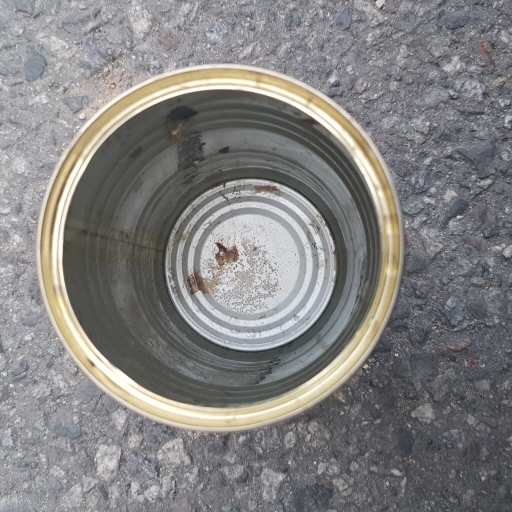Metal_1: (35, 62, 405, 439)
